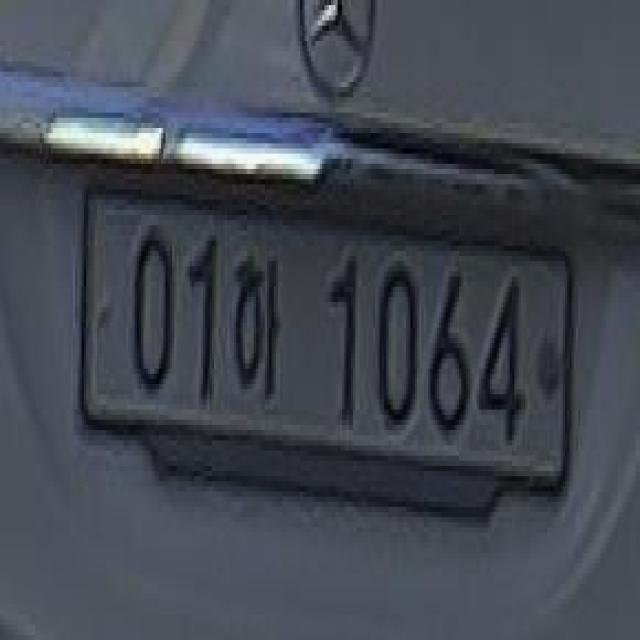illegal_plate: (80, 182, 575, 540)
